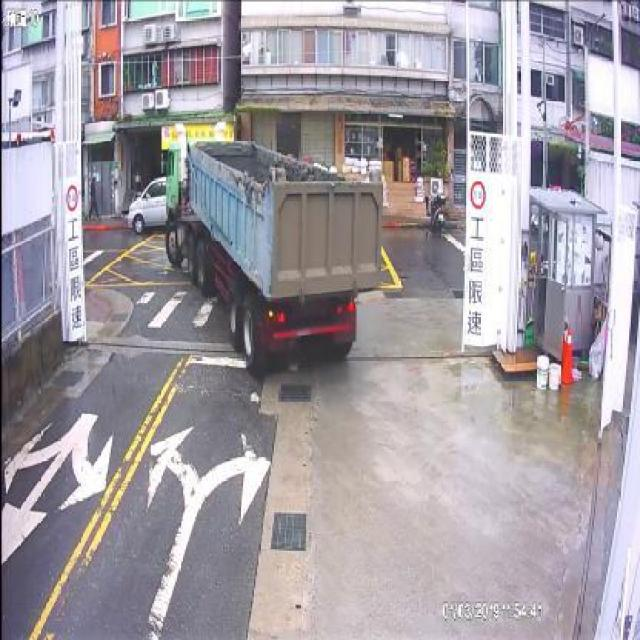Dump Truck: (158, 118, 384, 384)
